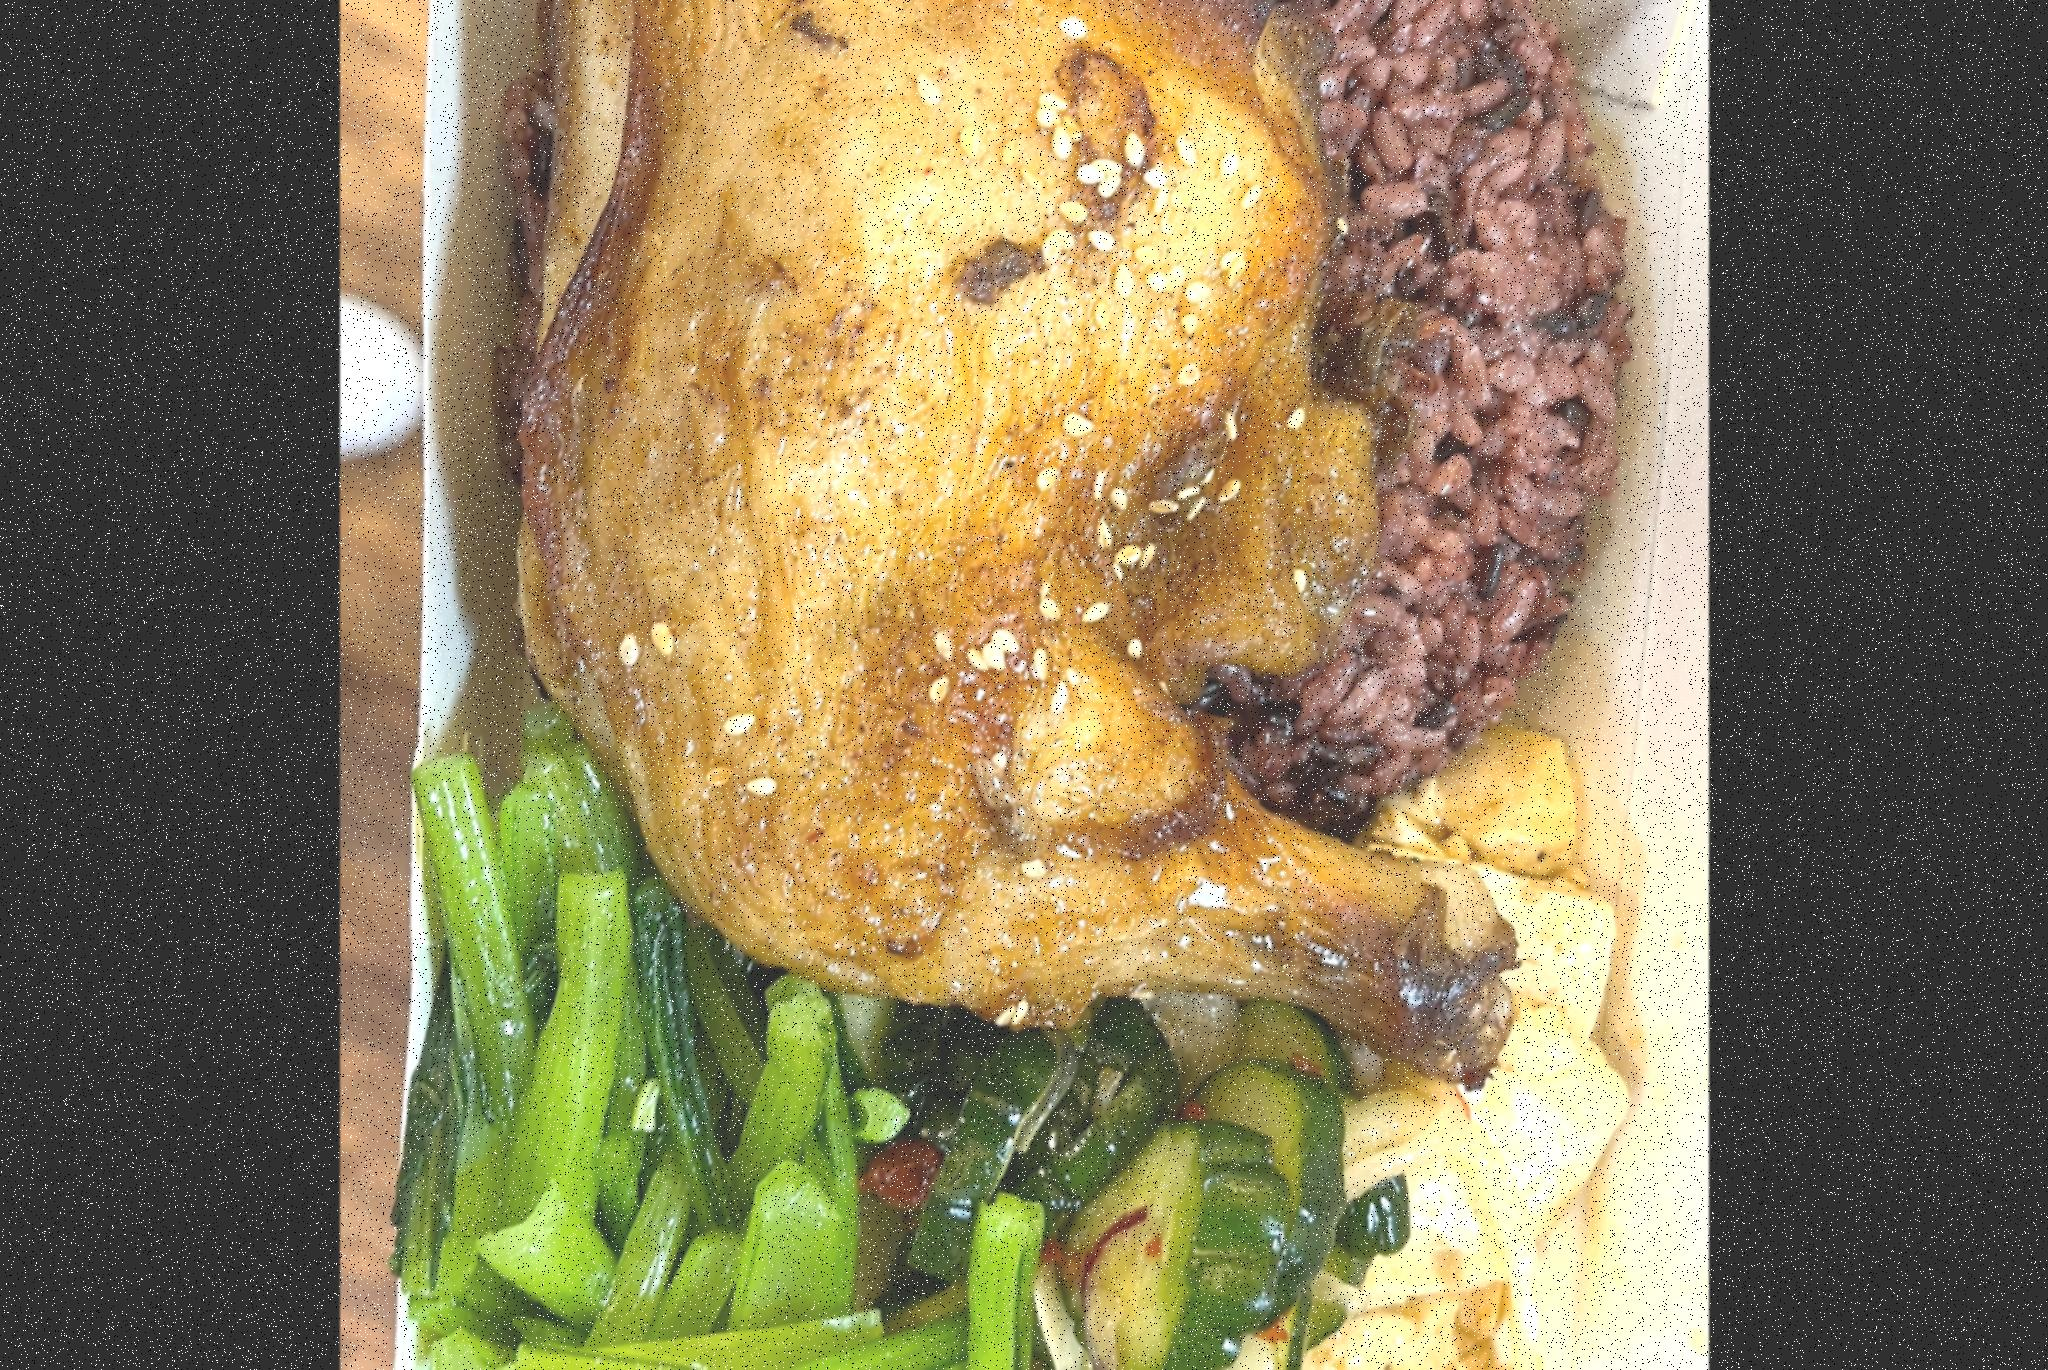big grilled chicken leg: (348, 0, 1681, 1370)
braised fish: (494, 0, 1625, 791)
braised fish fillet: (417, 809, 922, 1370), (1298, 742, 1632, 1370), (879, 968, 1374, 1370)
brown rice: (504, 0, 1508, 1119)
